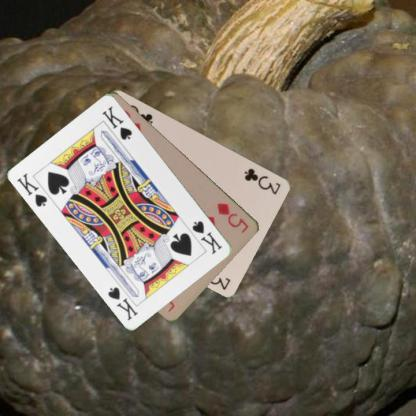3c: (242, 165, 282, 196)
5d: (214, 200, 250, 234)
Ks: (14, 170, 50, 208), (190, 218, 224, 256)
